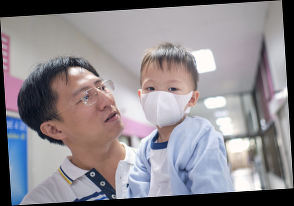with_mask: (141, 74, 195, 128)
without_mask: (63, 76, 124, 146)
